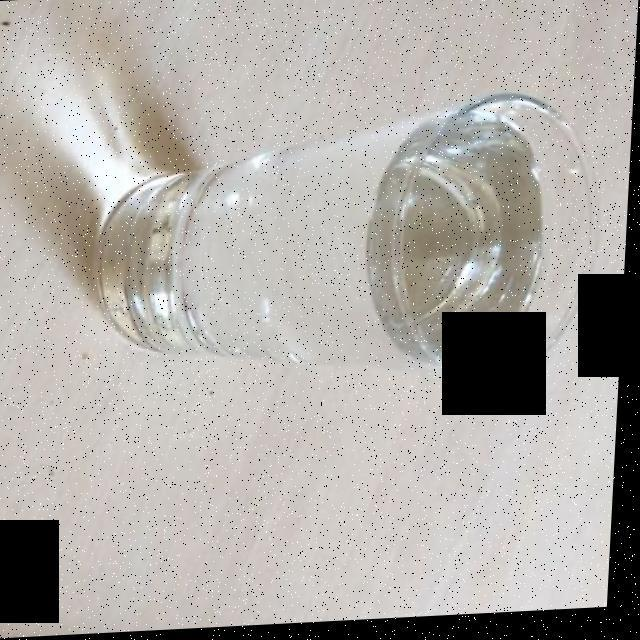water: (118, 119, 570, 376)
